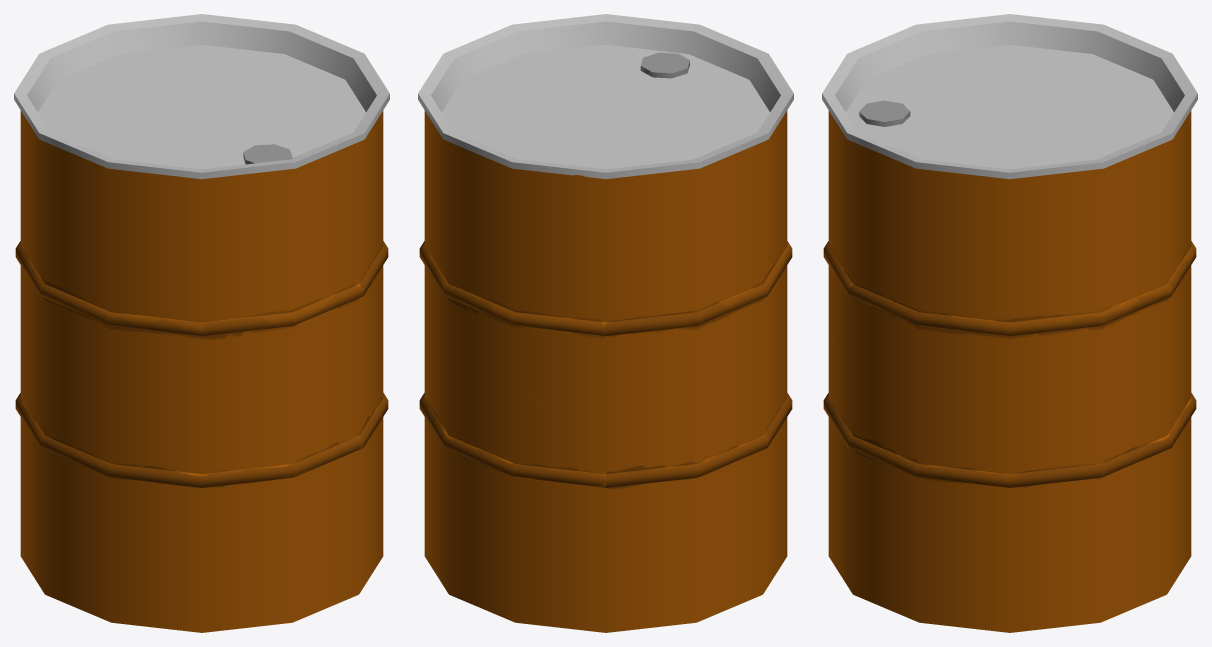
Rendered from MetallicBarrel.fbx.
3 renders of one model, left to right at view 1: azimuth 30°, elevation 25°; view 2: azimuth 150°, elevation 25°; view 3: azimuth 270°, elevation 25°, orthographic.
Visible parts, largest first — view 1: BarrelMetallic; view 2: BarrelMetallic; view 3: BarrelMetallic.
Boxes of the visible parts, x1=… form: BarrelMetallic: x1=14, y1=14, x2=389, y2=632; BarrelMetallic: x1=418, y1=14, x2=793, y2=632; BarrelMetallic: x1=822, y1=14, x2=1197, y2=632.
Bounding box in the file's own units: 207 × 282 × 207.
